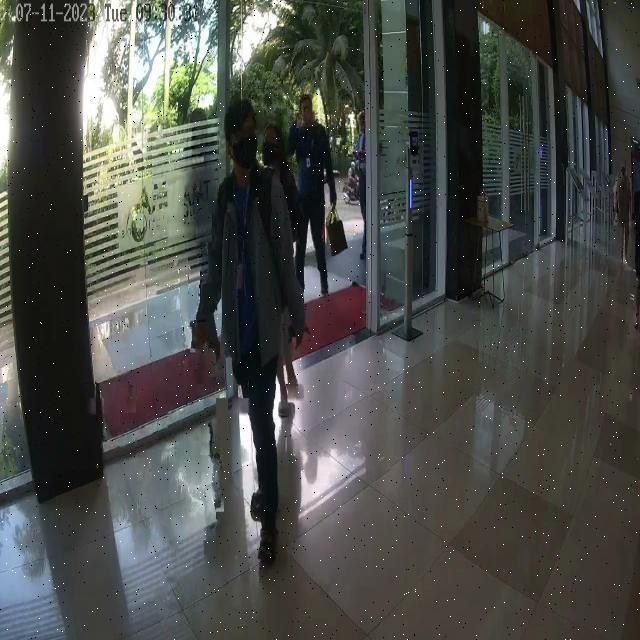person: (218, 108, 290, 556), (290, 98, 332, 300)
